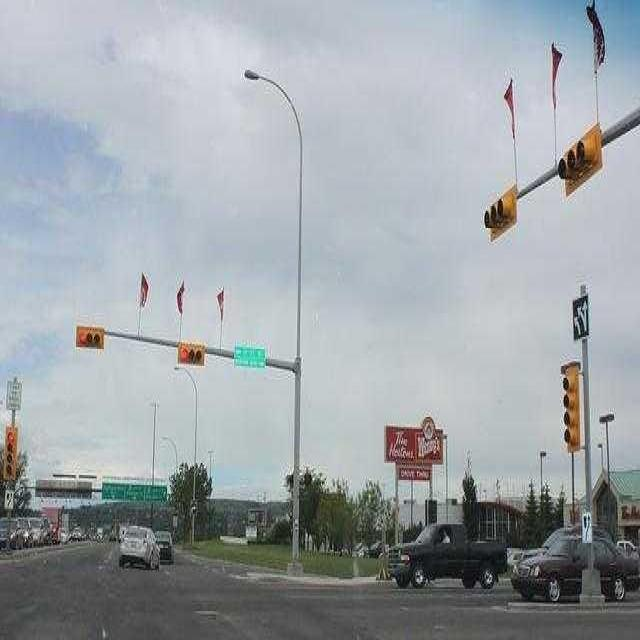Traffic Light -Red-: (176, 339, 207, 369), (75, 324, 105, 354)
